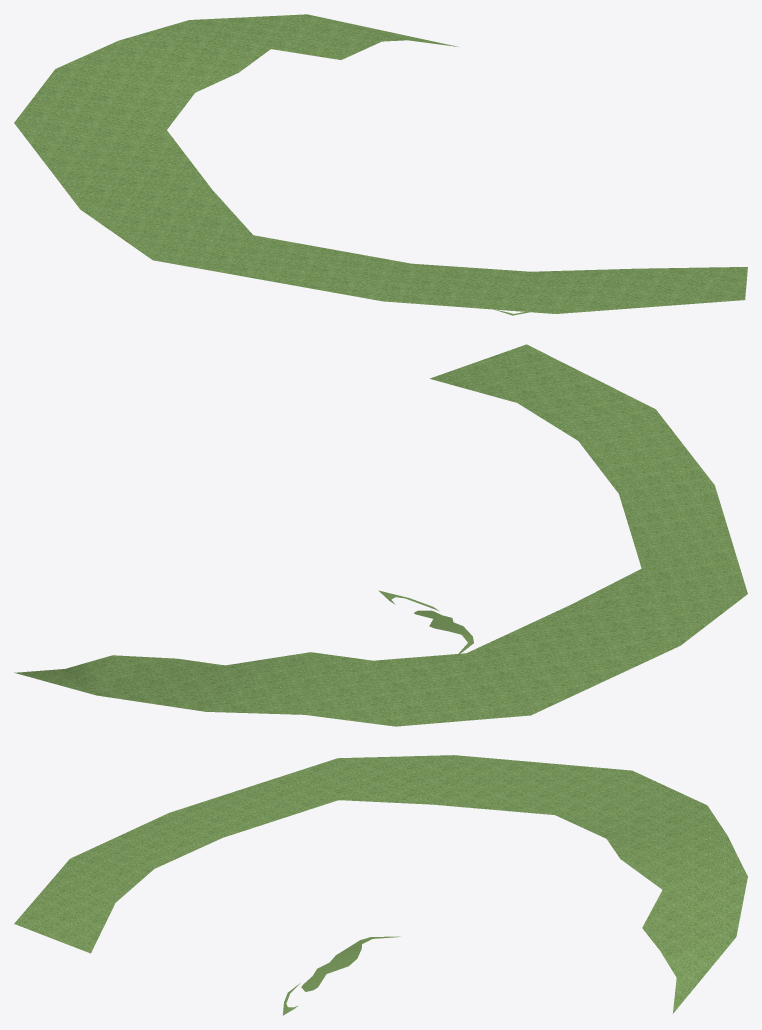
The model's file is kd_stage_13612f_2_3.glb.
3 renders of one model, top to bottom at view 1: azimuth 30°, elevation 25°; view 2: azimuth 150°, elevation 25°; view 3: azimuth 270°, elevation 25°, orthographic. The views are drawn at different scales.
Visible parts, largest first — view 1: kd_stage_13612f_2_3; view 2: kd_stage_13612f_2_3; view 3: kd_stage_13612f_2_3.
Boxes of the visible parts, x1,y1,x2,y2 form: kd_stage_13612f_2_3: (14,14,747,315); kd_stage_13612f_2_3: (14,344,747,726); kd_stage_13612f_2_3: (14,755,747,1015).
Bounding box in the file's own units: 265 × 59.35 × 388.
Materials: 1 (1 with a texture image).
